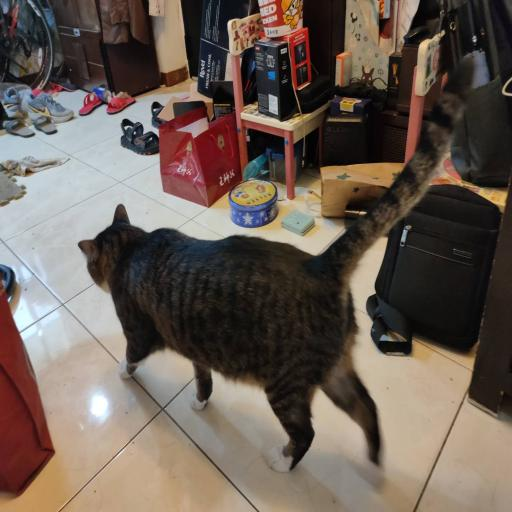cat: (83, 214, 385, 449)
